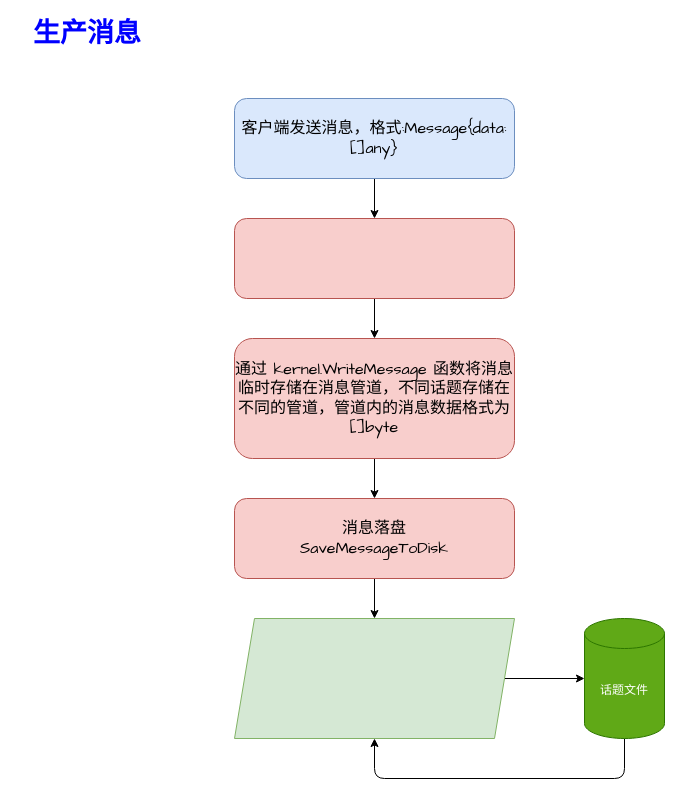
The diagram is 682 pixels wide and 804 high, and some of its shapes have lost their labels. Each missing label, with the centre of its shape:
从管道中读取消息，最多2000条， 无消息则延迟50毫秒后循环读取: pixel 374 678
服务端接收到消息， 格式:Message{data:[]any}: pixel 374 258
